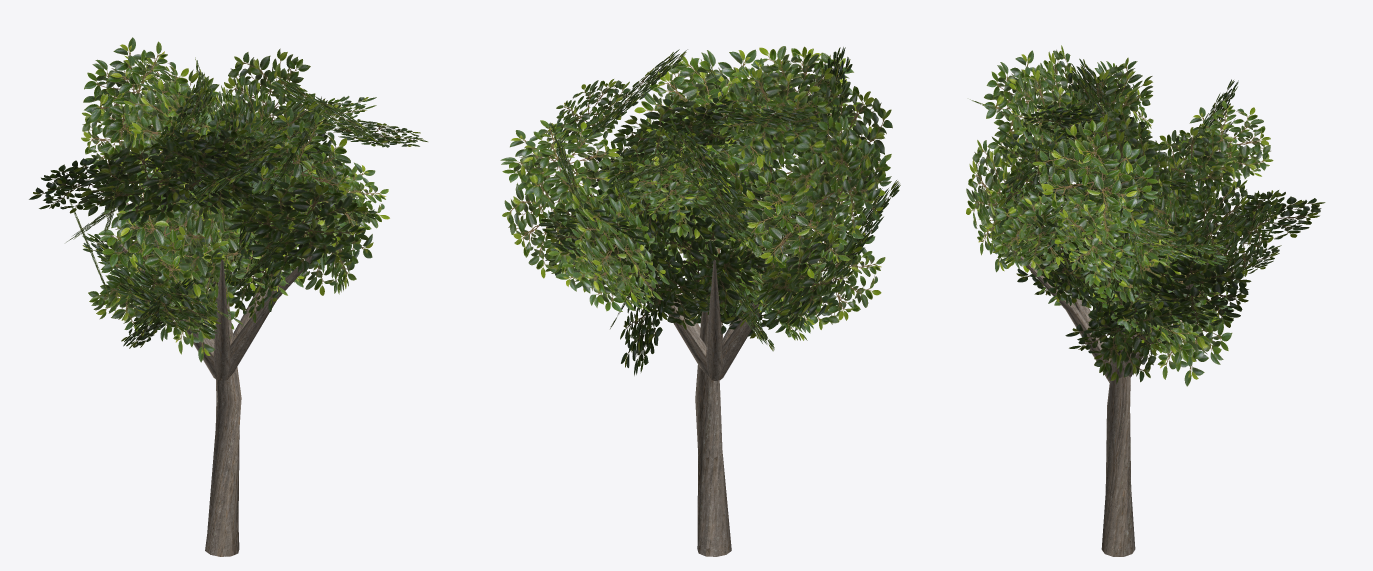
The model's file is street-tree.glb.
The picture shows the model from 3 angles, left to right: view 1: azimuth 30°, elevation 25°; view 2: azimuth 150°, elevation 25°; view 3: azimuth 270°, elevation 25°; orthographic projection. The views are drawn at different scales.
Visible parts, largest first — view 1: street-tree_Body.001; view 2: street-tree_Body.001; view 3: street-tree_Body.001.
Part boxes in pixels (<box>): street-tree_Body.001: <box>29,37,427,556</box>; street-tree_Body.001: <box>500,46,900,556</box>; street-tree_Body.001: <box>966,45,1325,556</box>.
Bounding box in the file's own units: 4.56 × 5.71 × 4.39.
Materials: 2 (2 with a texture image).
